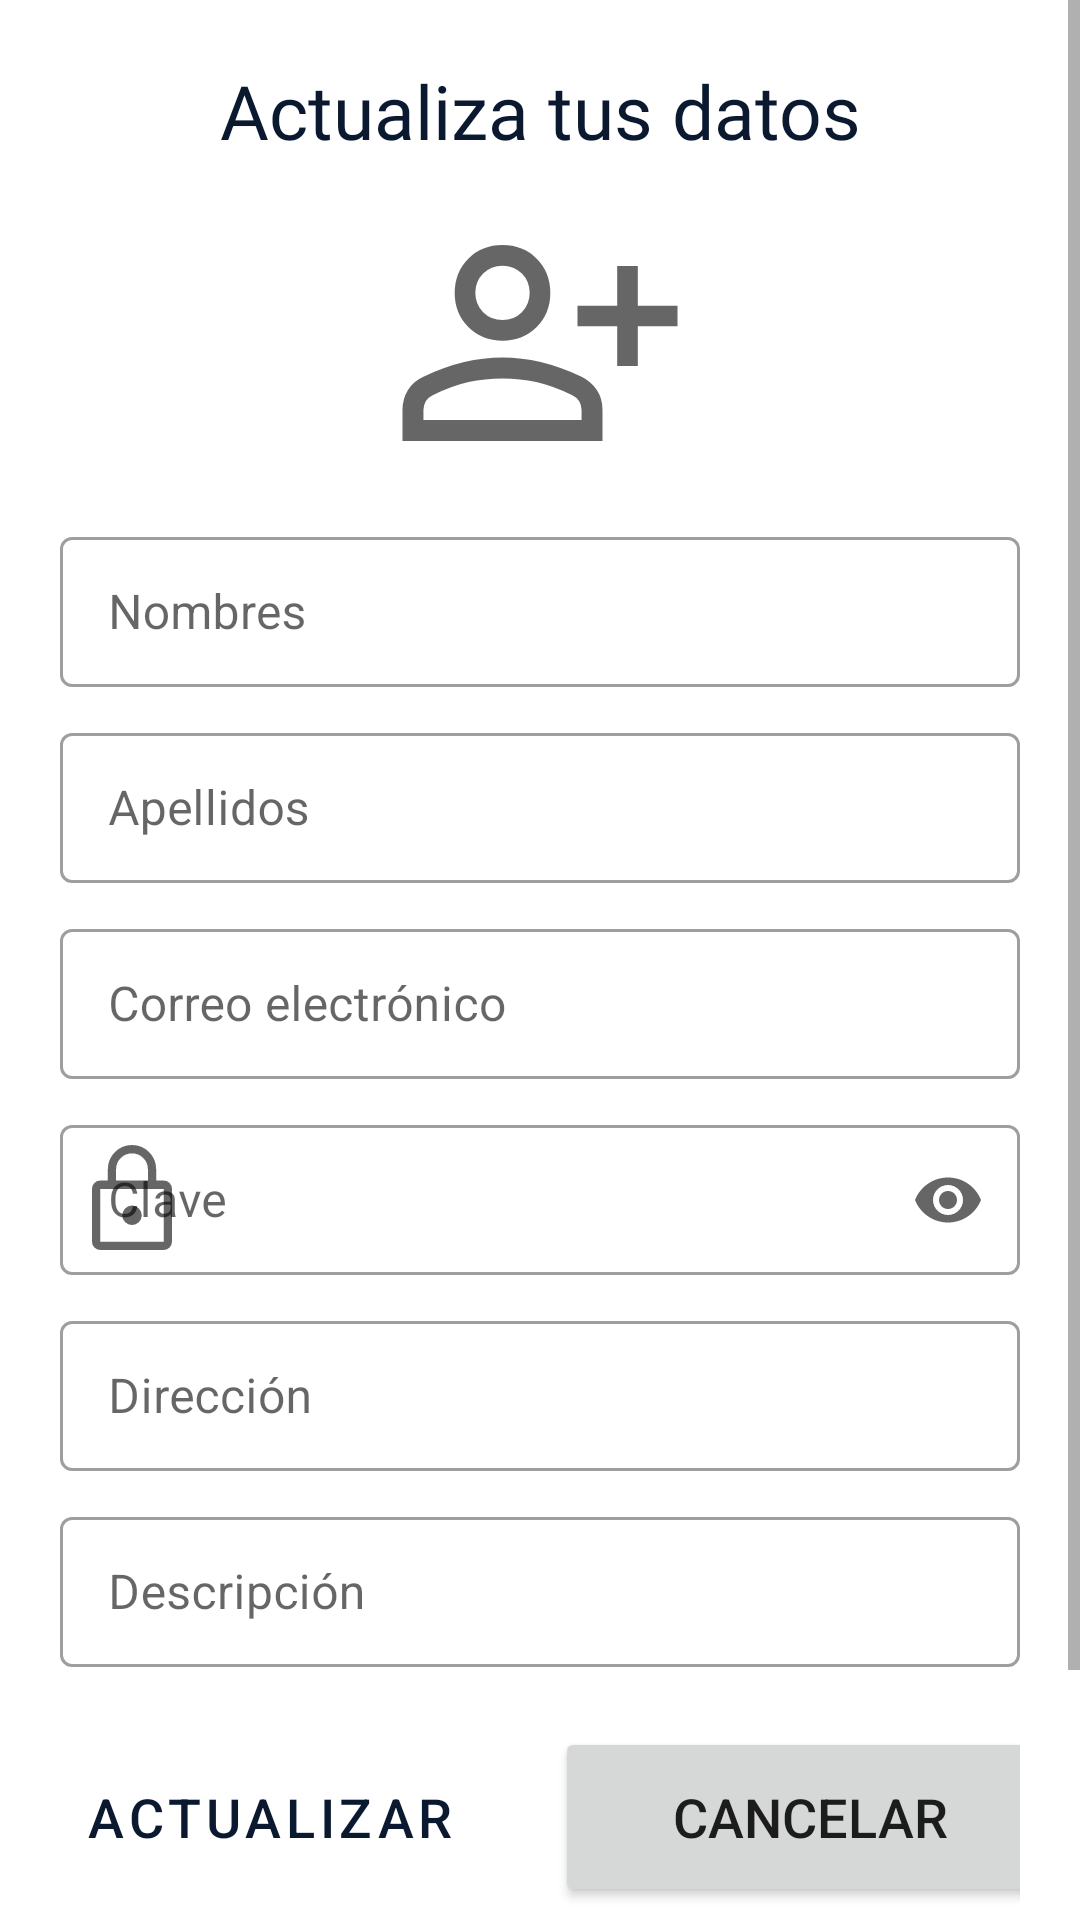

Icons on this 1080 x 1920 Android screen, each with the point to tap as (x,y):
user add: (540,343)
